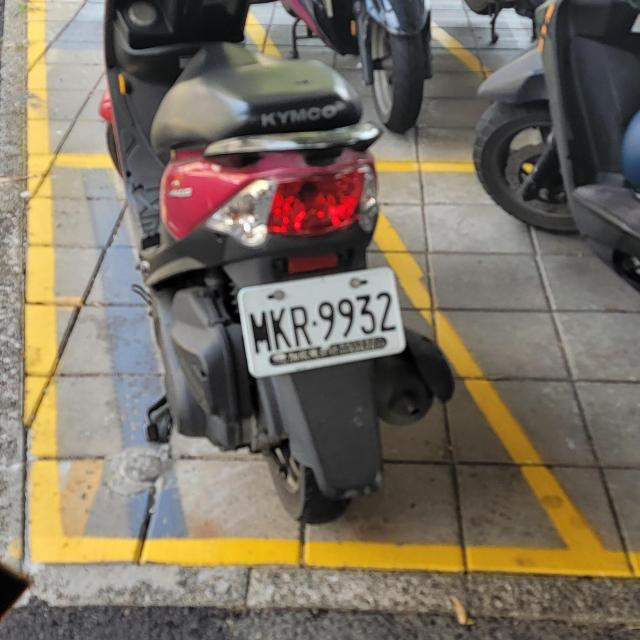W: (235, 262, 410, 379)
